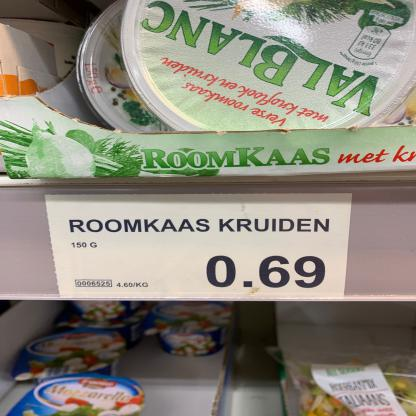prtg: (45, 194, 354, 301)
